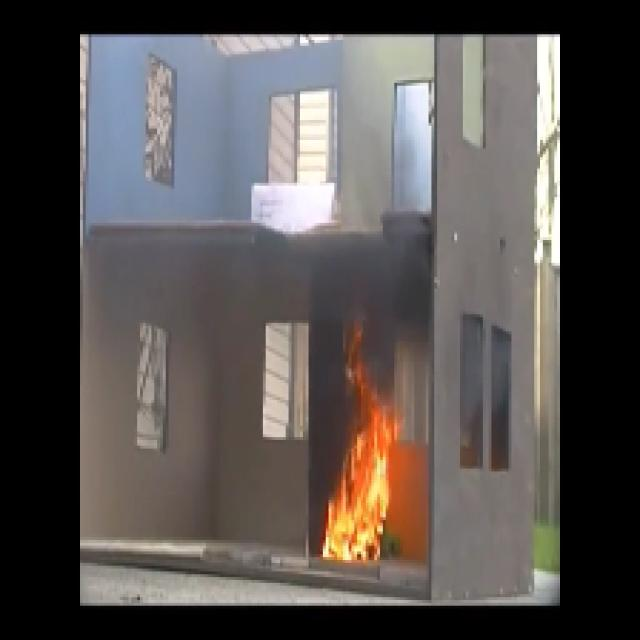fire: (332, 376, 390, 562)
smoke: (317, 240, 431, 310)
